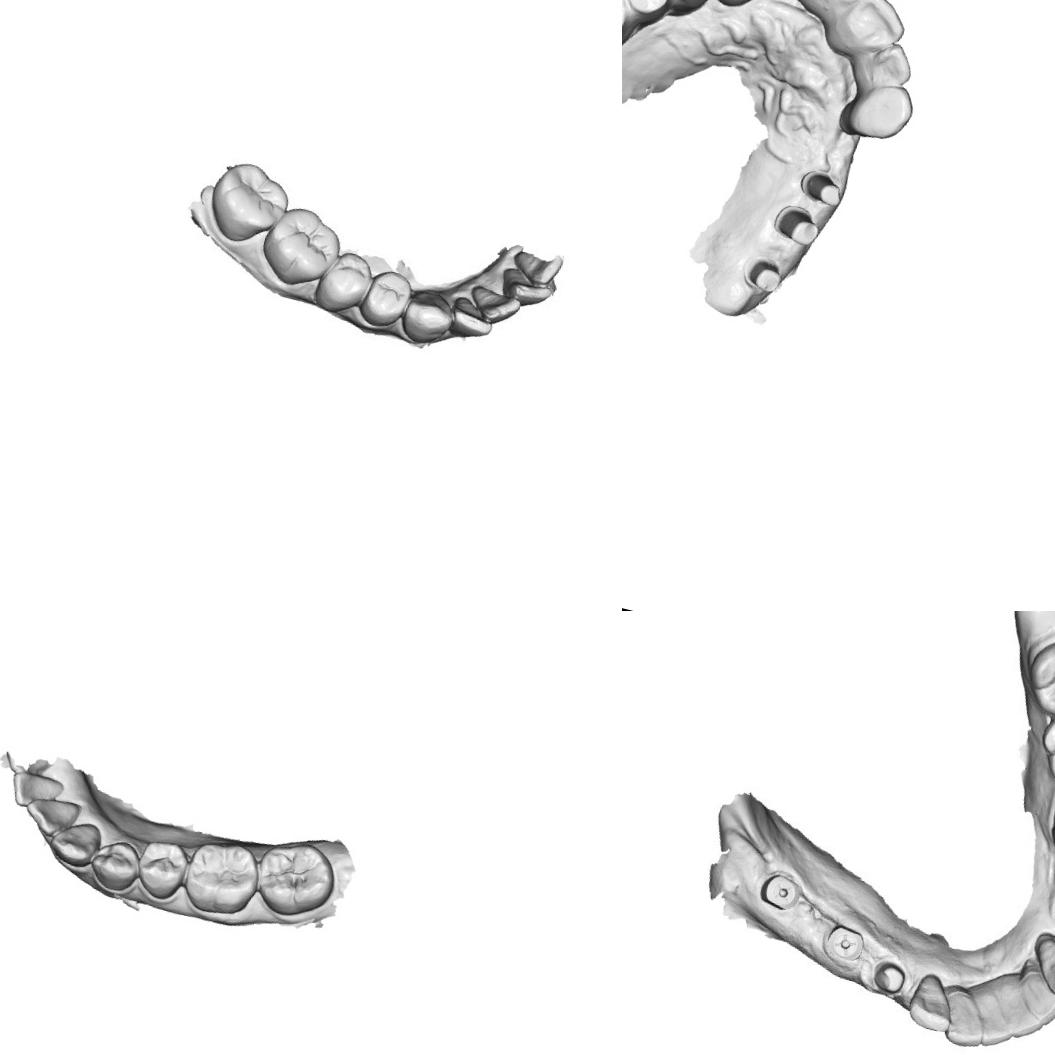abutment: (768, 201, 824, 250), (793, 165, 848, 210), (738, 251, 786, 296), (869, 956, 912, 997)
canine: (834, 74, 918, 150), (396, 285, 457, 353), (43, 814, 105, 877), (903, 968, 960, 1034), (1022, 931, 1055, 1000)
implant_plus: (752, 864, 809, 916), (814, 921, 866, 967)
incisor: (990, 982, 1049, 1049), (964, 983, 1018, 1051), (934, 989, 992, 1050), (846, 0, 915, 51), (1007, 961, 1055, 1034), (20, 790, 83, 843), (494, 262, 560, 311), (4, 767, 66, 815), (866, 37, 918, 93), (465, 282, 522, 329), (448, 291, 497, 345)
molar: (247, 833, 342, 925), (201, 156, 292, 244), (177, 833, 265, 922), (259, 199, 343, 286), (1020, 629, 1055, 723), (1033, 702, 1055, 791)
premolar: (130, 834, 192, 903), (84, 833, 147, 897), (317, 250, 370, 320), (362, 269, 410, 330), (622, 0, 681, 23)
